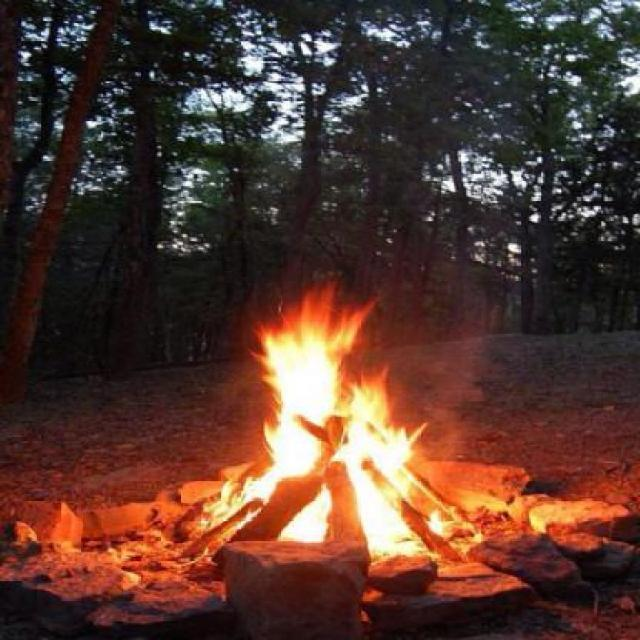Fire: (236, 274, 427, 542)
